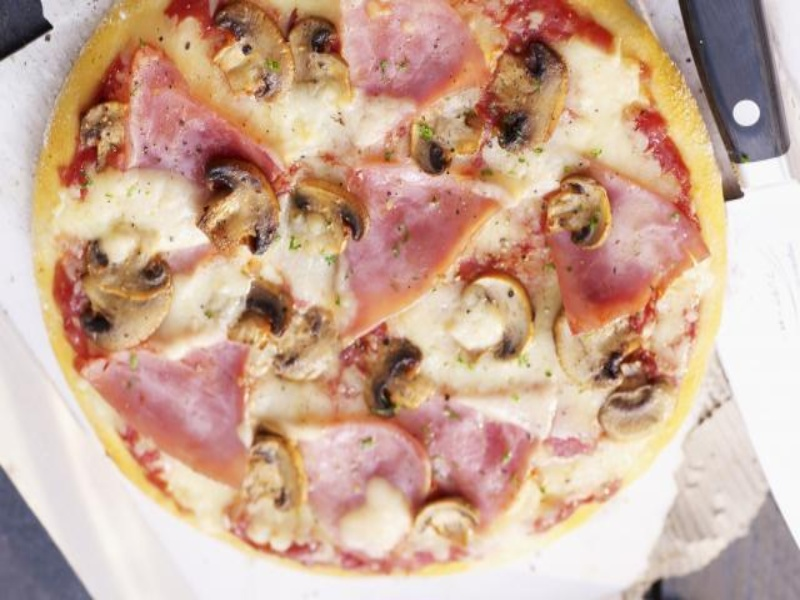champignon: (202, 1, 304, 109), (484, 35, 572, 159), (68, 260, 178, 355), (447, 265, 536, 370), (195, 158, 281, 261), (290, 172, 373, 264), (362, 337, 448, 419), (537, 175, 617, 252)
